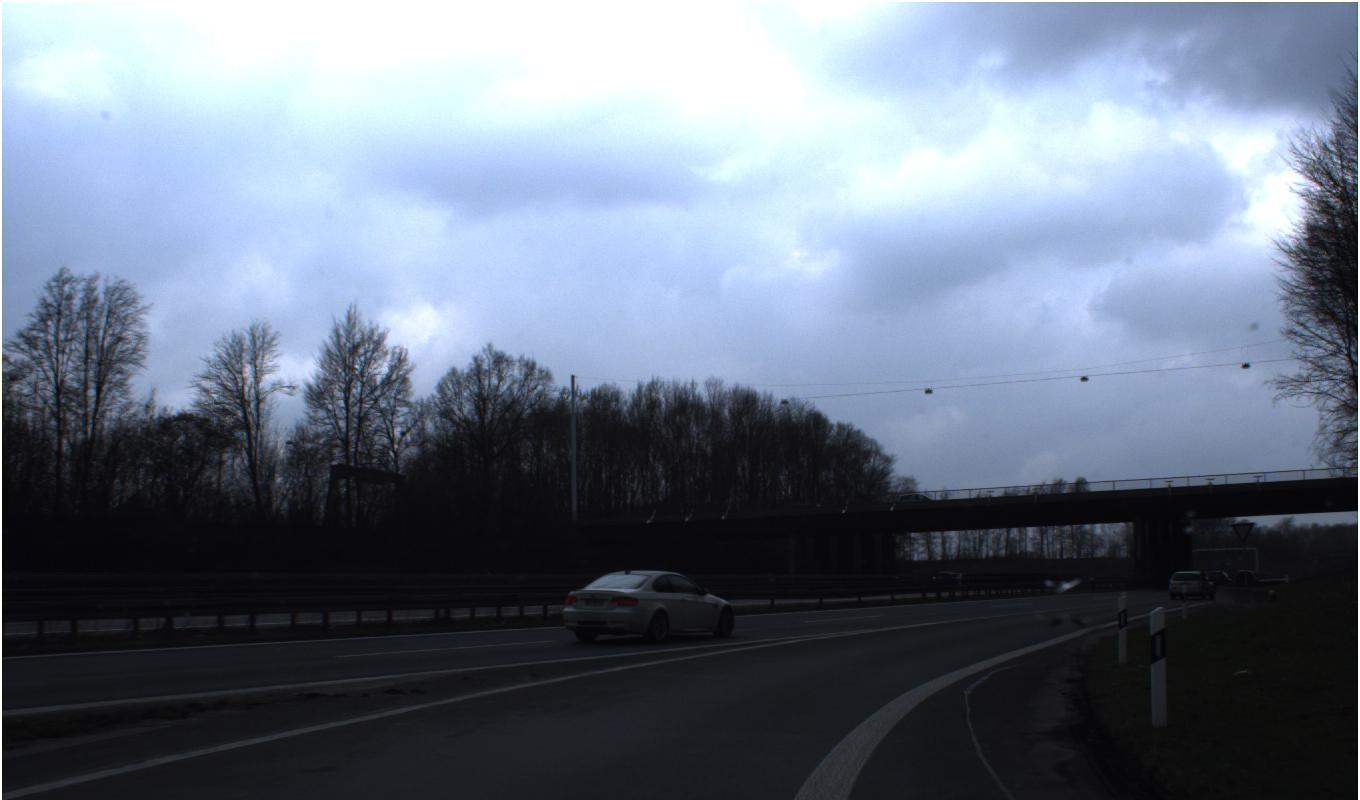sign: (1229, 521, 1255, 545)
